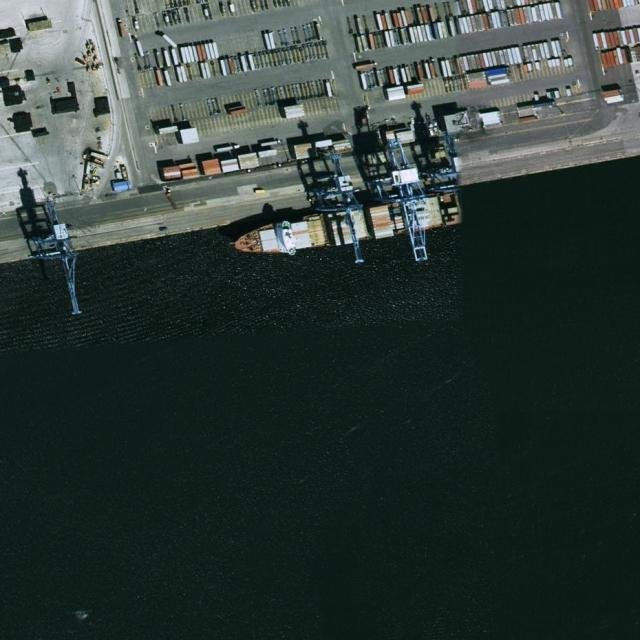Container Ship: (229, 185, 466, 264)
